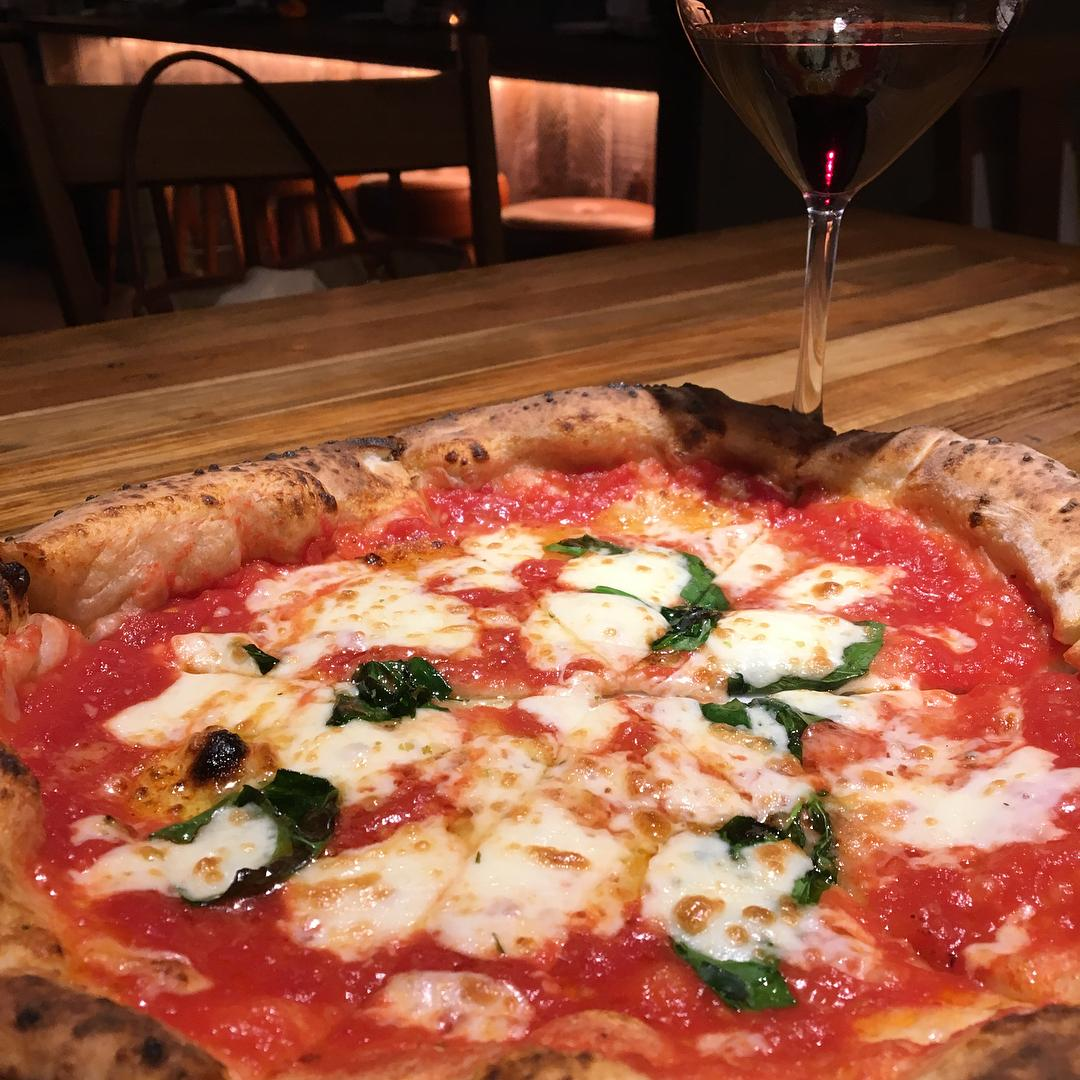Basil: (147, 771, 341, 912), (716, 795, 843, 905), (722, 618, 885, 700), (667, 943, 800, 1016), (697, 700, 832, 770), (327, 658, 452, 728), (658, 546, 735, 655), (543, 535, 634, 560), (240, 639, 287, 675)
Cheese: (315, 851, 581, 930), (873, 702, 1041, 821), (472, 757, 612, 850), (546, 552, 673, 652), (672, 852, 794, 943), (313, 573, 462, 645), (296, 719, 429, 792), (134, 684, 327, 732), (726, 618, 840, 668)
Pizza: (0, 385, 1080, 1080)
